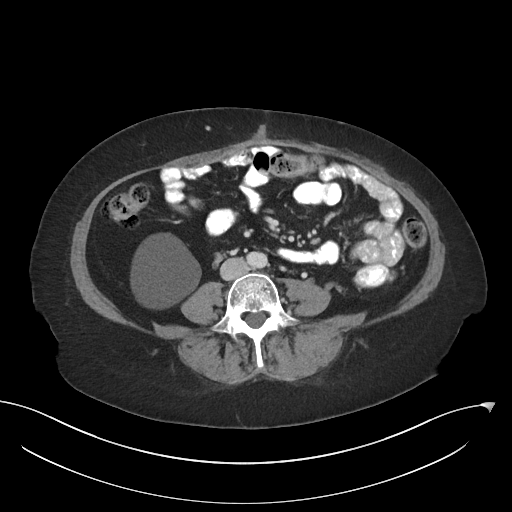Lesion: (126, 228, 203, 314)
